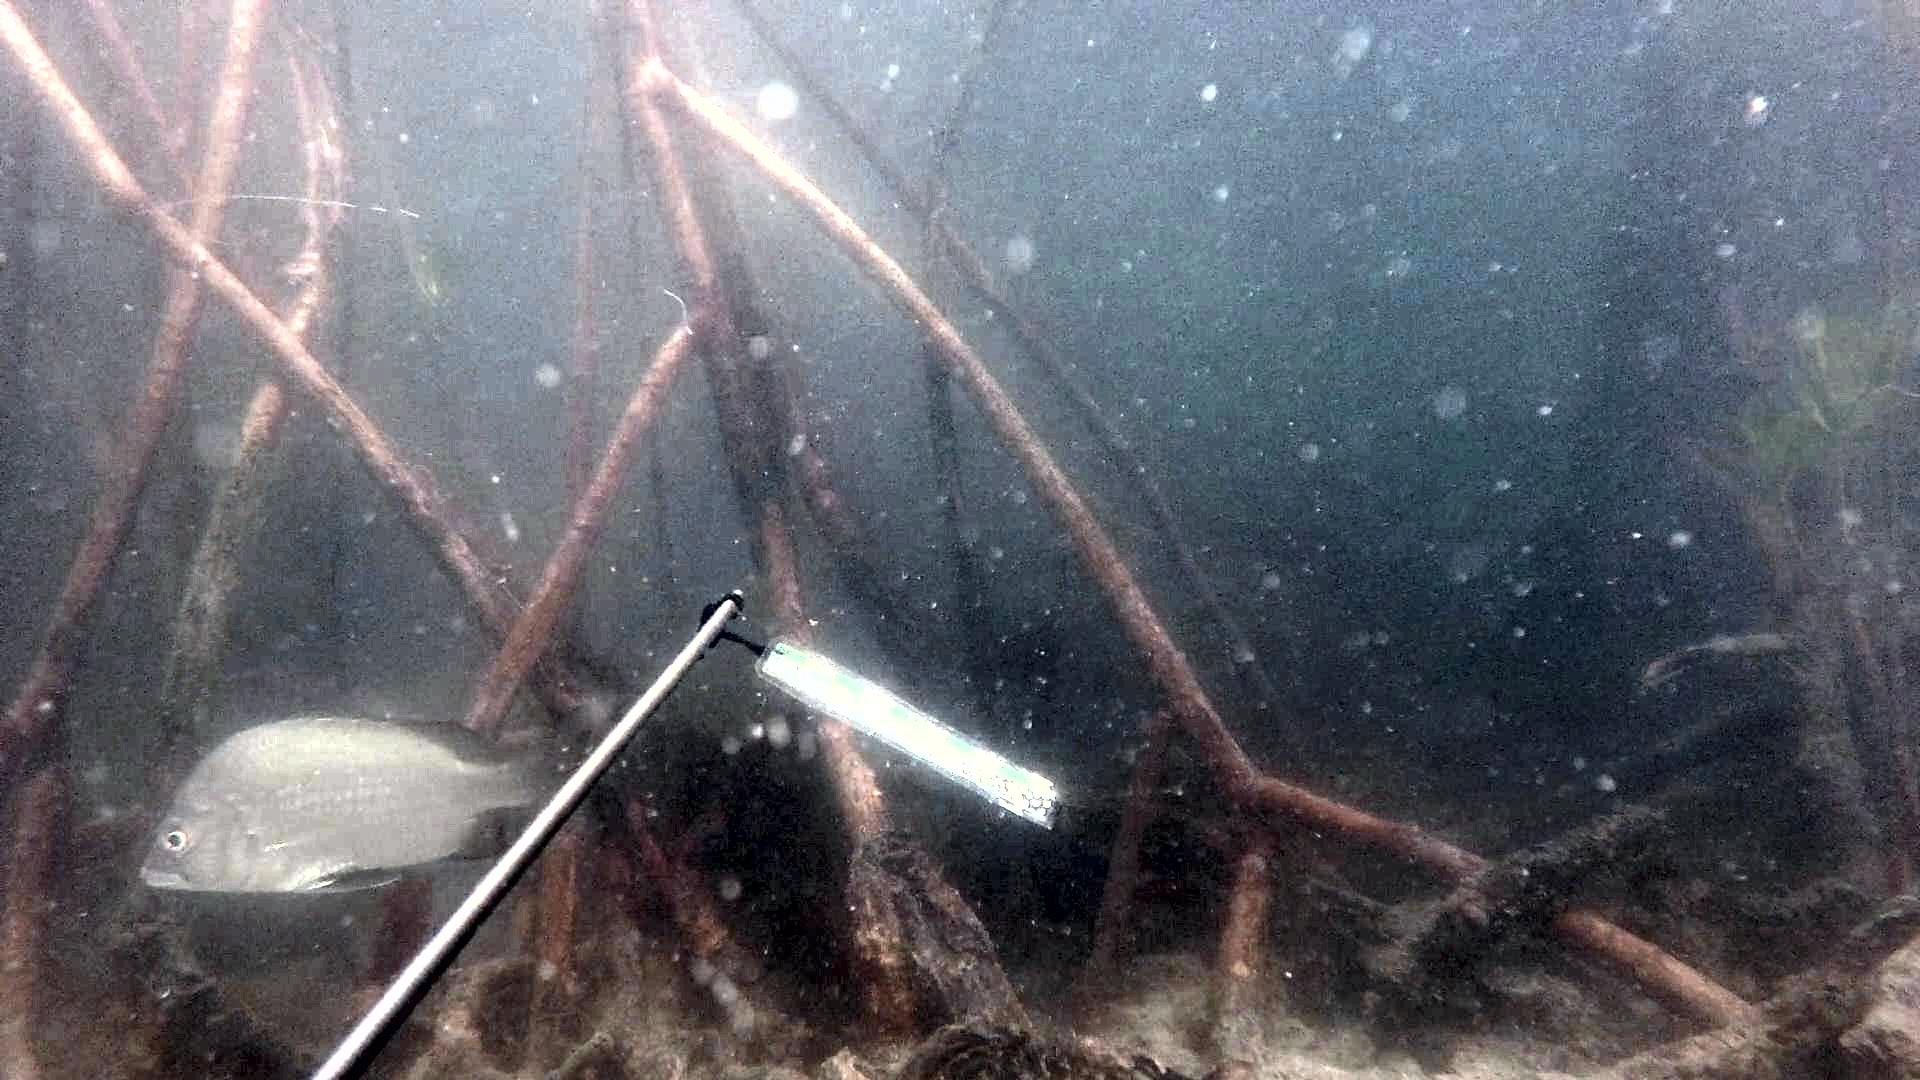acanthopagrus palmaris: (133, 681, 628, 900)
